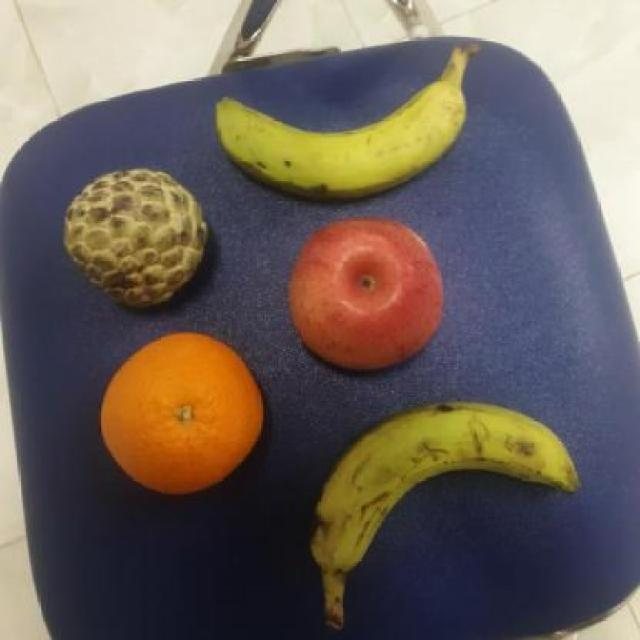apple: (290, 214, 448, 375)
banana: (308, 398, 582, 578), (215, 76, 474, 204)
oren: (95, 331, 270, 497)
sugar apple: (59, 165, 212, 309)
